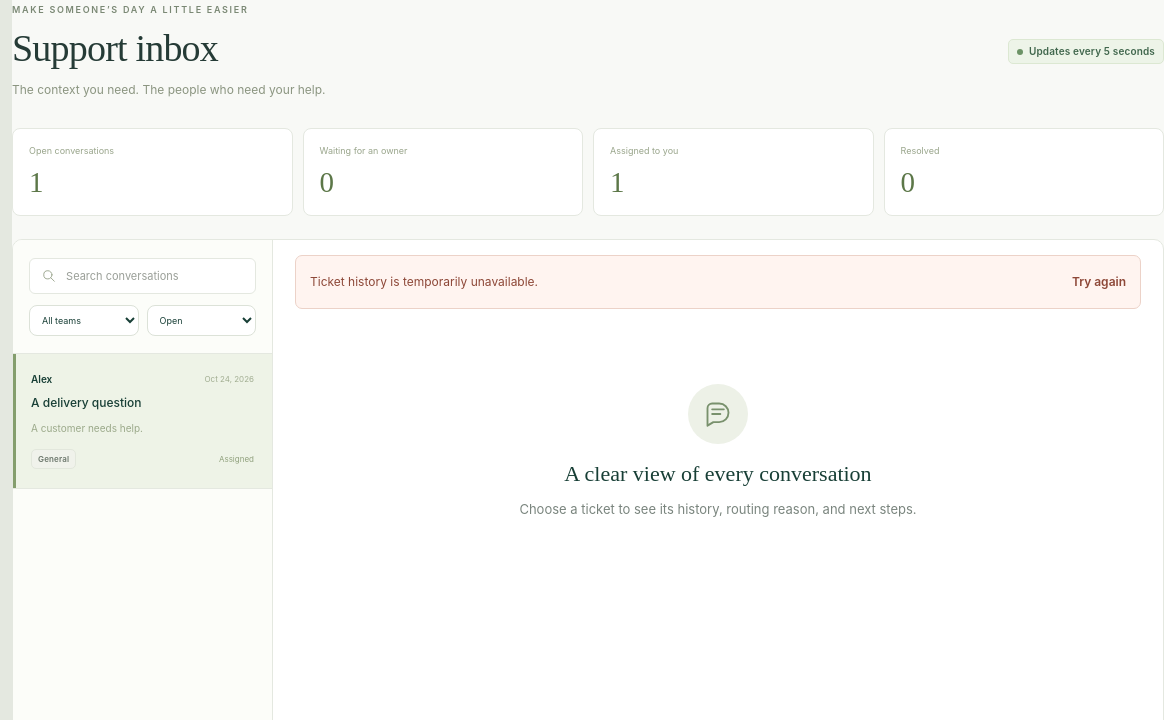
Test case: staff filtered selection › shows a ticket history load failure and allows a retry
expect the text "Ticket history is temporarily unavailable." is shown: met, box [310,272,538,292]
expect the field labelled "Reply to Alex" is not shown: met
Click the button "Try again": (1099, 282) [1072,268,1126,296]
(page scrolled)
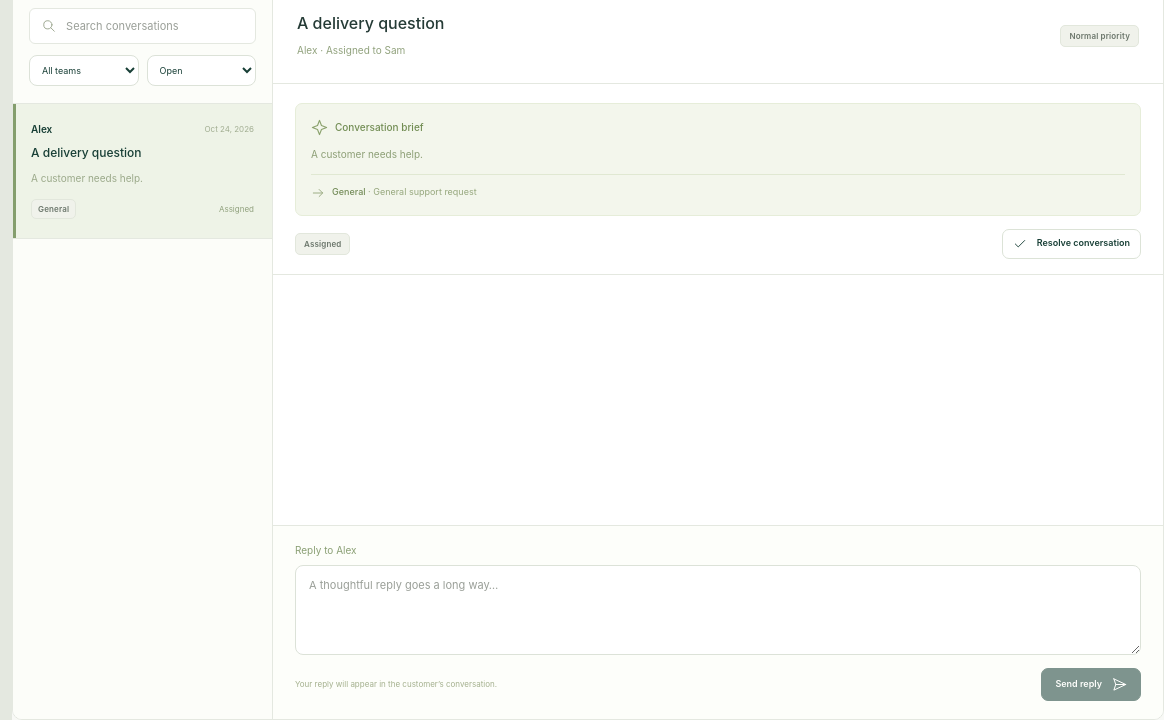
expect the text box labelled "Reply to Alex" is shown: met, box [295,564,1141,654]
